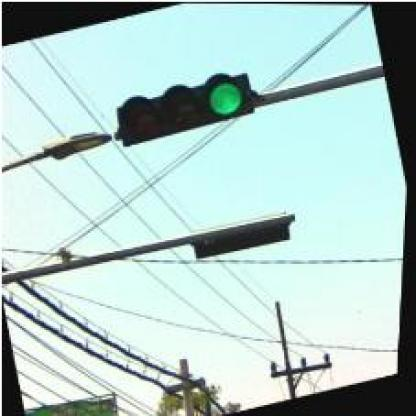green: (110, 66, 260, 150)
